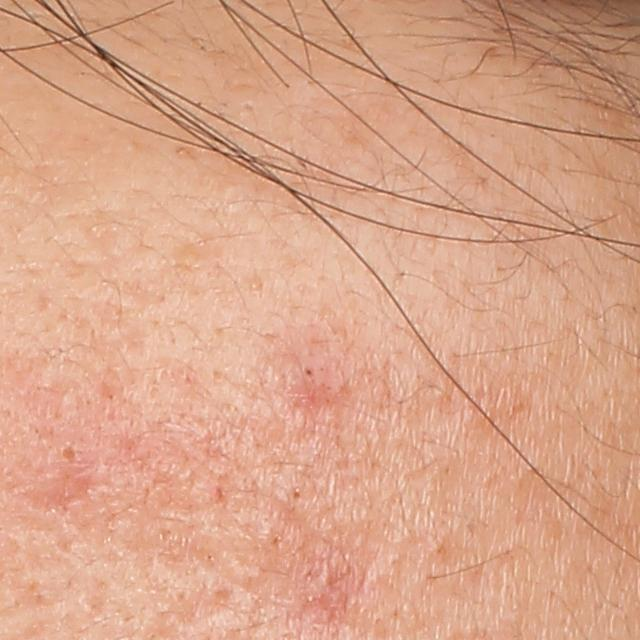comedo: (288, 484, 303, 500)
